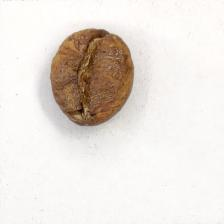NG: (56, 31, 123, 119)
